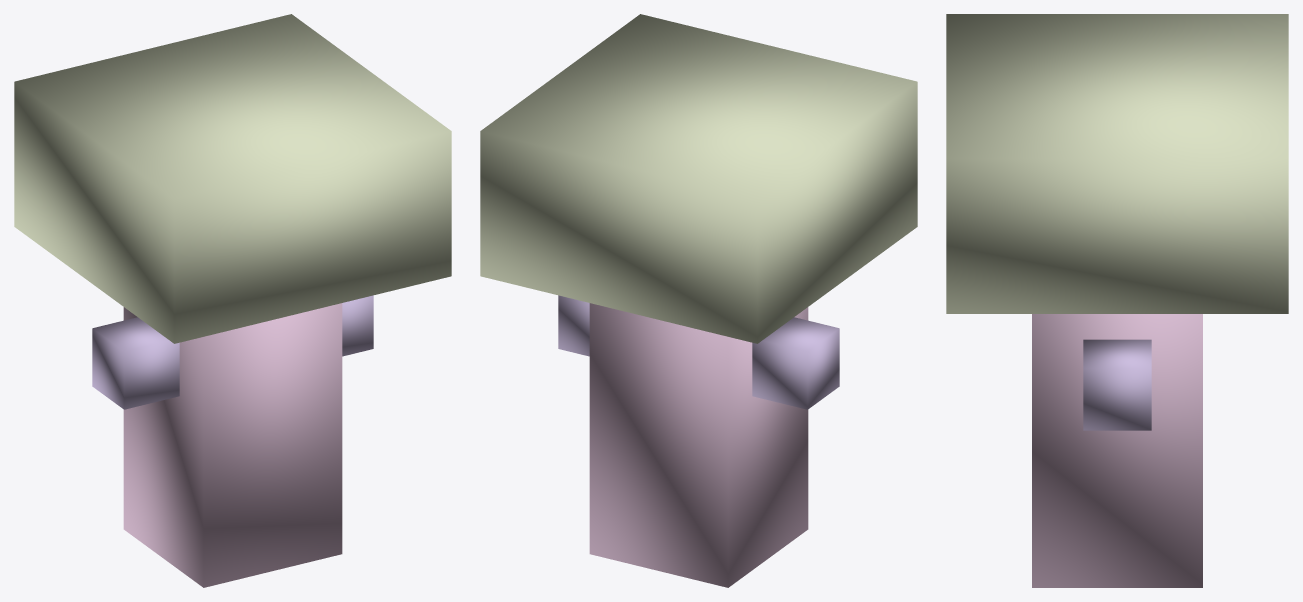
File: C_barbarian.fbx
The picture shows the model from 3 angles, left to right: view 1: azimuth 30°, elevation 25°; view 2: azimuth 150°, elevation 25°; view 3: azimuth 270°, elevation 25°; orthographic projection. The views are drawn at different scales.
Visible parts, largest first — view 1: Mesh_003; view 2: Mesh_003; view 3: Mesh_003.
Boxes of the visible parts, left/top/right/bottom form: Mesh_003: left=14, top=14, right=451, bottom=587; Mesh_003: left=480, top=14, right=917, bottom=587; Mesh_003: left=946, top=14, right=1288, bottom=587.
Size of the model in its own units: 1 by 1.5 by 1.
